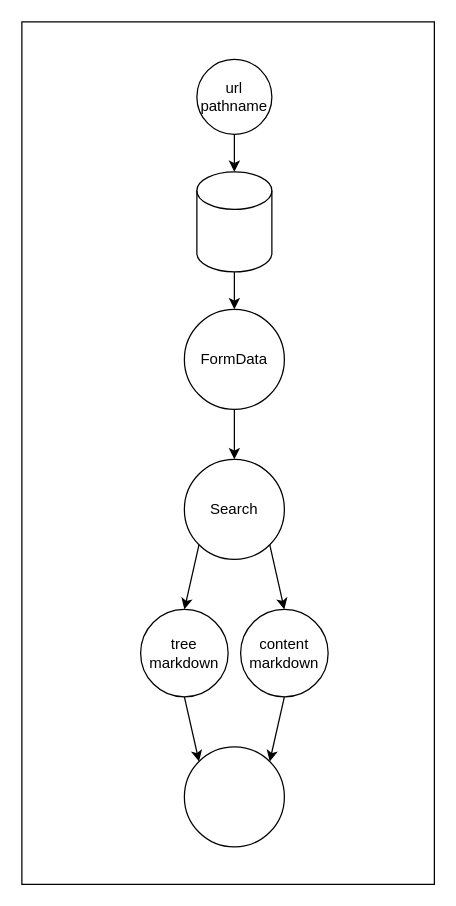
Image size: 456x906. Some labels were removed from this diagram. The box of each missing label's shape, as (x1, y1, x2, y2) in pixels:
github archive (zip): (196, 171, 272, 272)
markdown: (183, 746, 284, 847)
